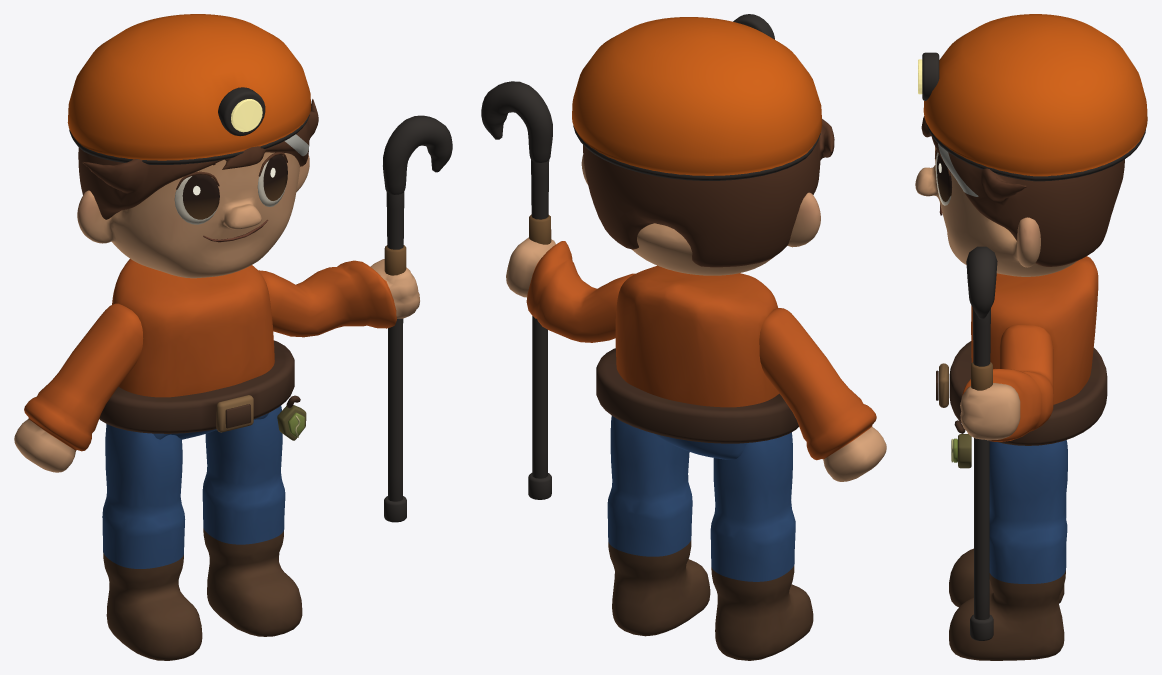
File: PIP_KESSEL.hi.glb
The picture shows the model from 3 angles, left to right: view 1: azimuth 30°, elevation 25°; view 2: azimuth 150°, elevation 25°; view 3: azimuth 270°, elevation 25°; orthographic projection. The views are drawn at different scales.
Visible parts, largest first — view 1: body (×2), legL, legR, armR, armL; view 2: body, legL, legR, armR, armL; view 3: body, legR, armR, legL.
Part boxes in pixels (box(x1,y1,x2,y2)): body (×2): box(67, 14, 318, 440); legL: box(102, 424, 202, 660); legR: box(202, 405, 302, 636); armR: box(258, 115, 452, 522); armL: box(14, 303, 143, 472); body: box(572, 14, 834, 459); legL: box(710, 432, 813, 660); legR: box(607, 416, 710, 636); armR: box(481, 81, 635, 499); armL: box(759, 308, 886, 481); body: box(915, 14, 1147, 468); legR: box(949, 440, 1067, 660); armR: box(960, 246, 1053, 640); legL: box(949, 496, 1066, 607).
Bounding box in the file's own units: 0.7218 × 1 × 0.3544.
